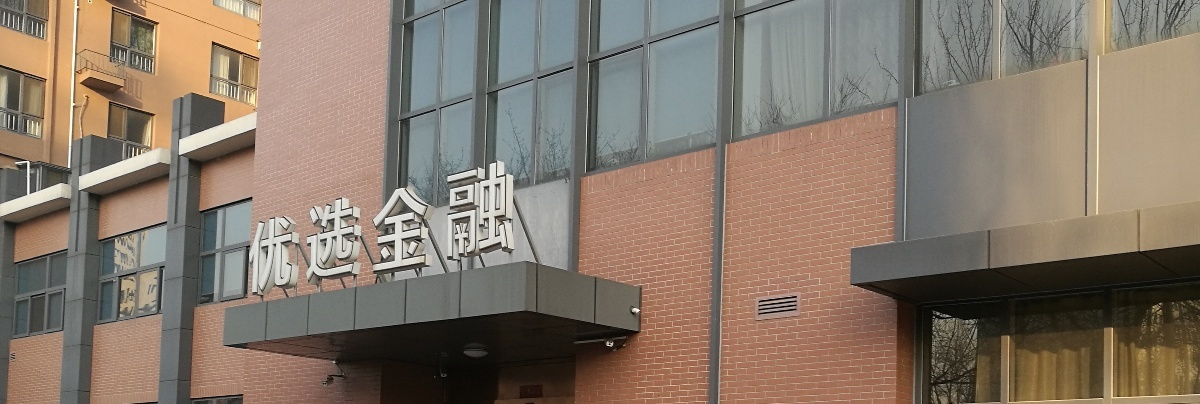text: (241, 154, 256, 301), (257, 154, 272, 301), (273, 154, 288, 301), (289, 154, 304, 301), (305, 154, 320, 301), (321, 154, 336, 301), (337, 154, 352, 301), (353, 154, 368, 301), (369, 154, 384, 301), (385, 154, 400, 301), (401, 154, 416, 301), (417, 154, 432, 301), (433, 154, 448, 301), (449, 154, 464, 301), (465, 154, 480, 301), (481, 154, 496, 301), (497, 154, 512, 301), (513, 154, 523, 301), (236, 154, 240, 301)
